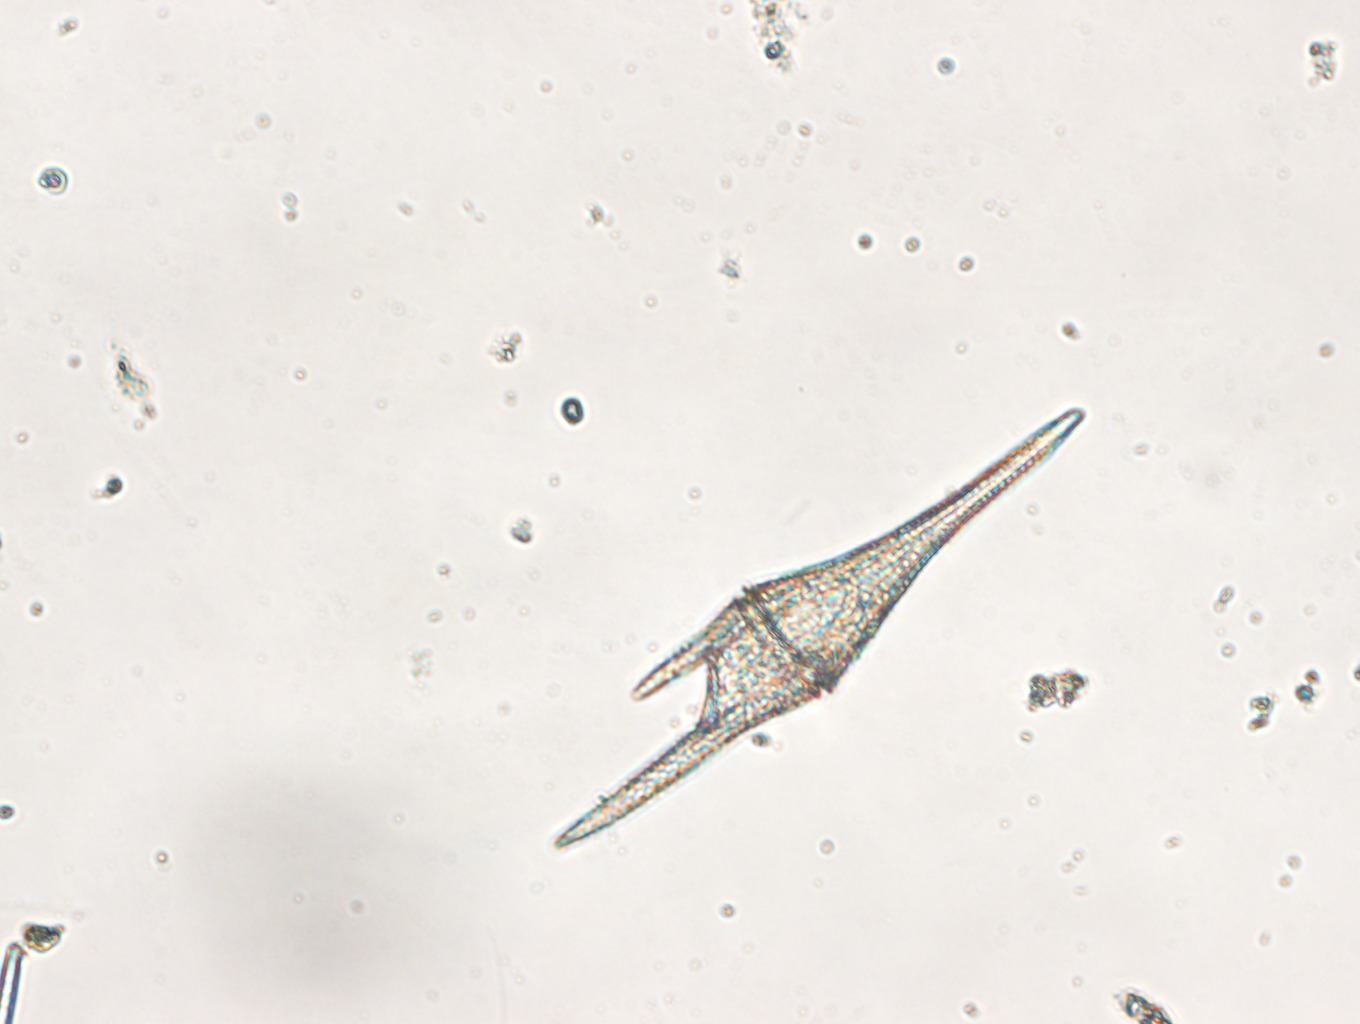ceratium furca: (553, 406, 1086, 850)
